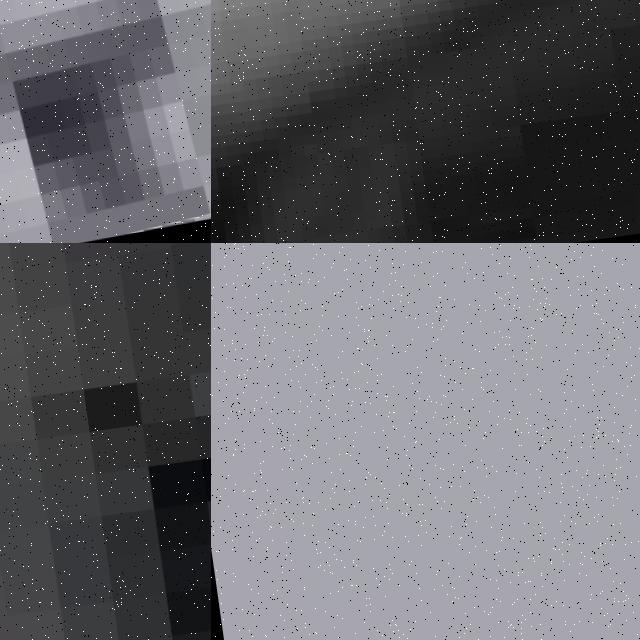drone: (0, 0, 211, 243)
